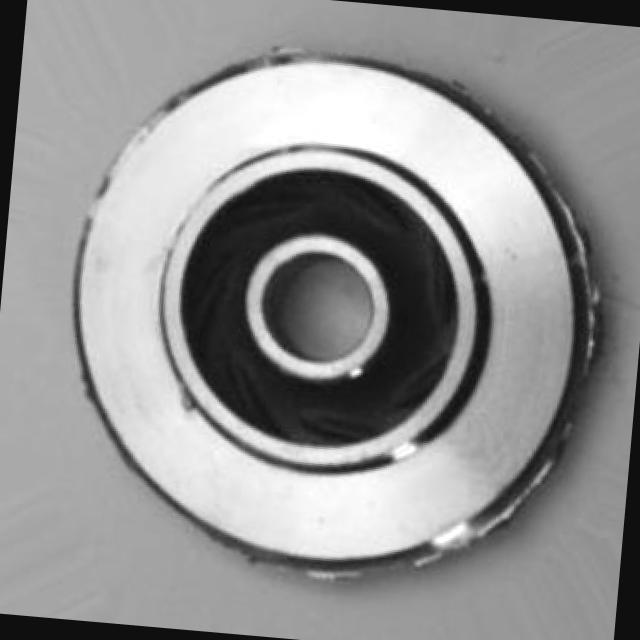Defect: (170, 382, 212, 426)
